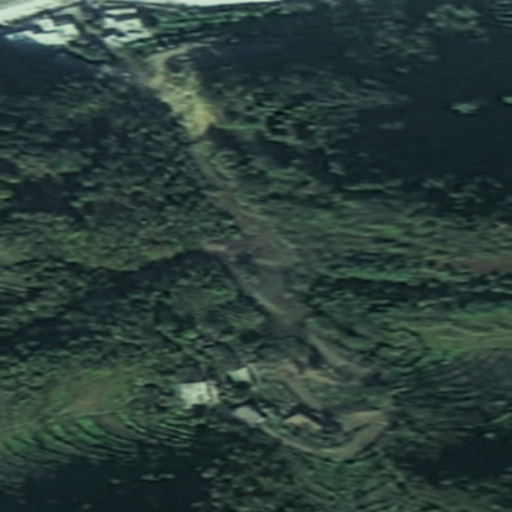landslide: (136, 43, 218, 145)
